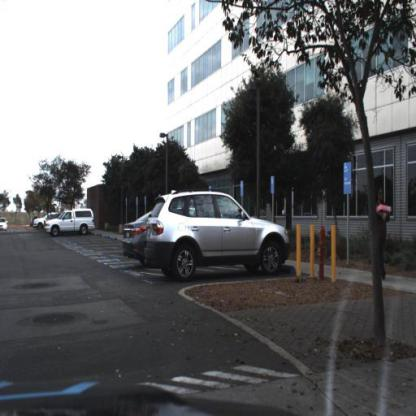car: (143, 186, 291, 286), (122, 208, 156, 269), (44, 206, 98, 240), (119, 210, 151, 267), (45, 208, 98, 238), (2, 218, 10, 236)
pedestrian: (372, 184, 392, 285)
